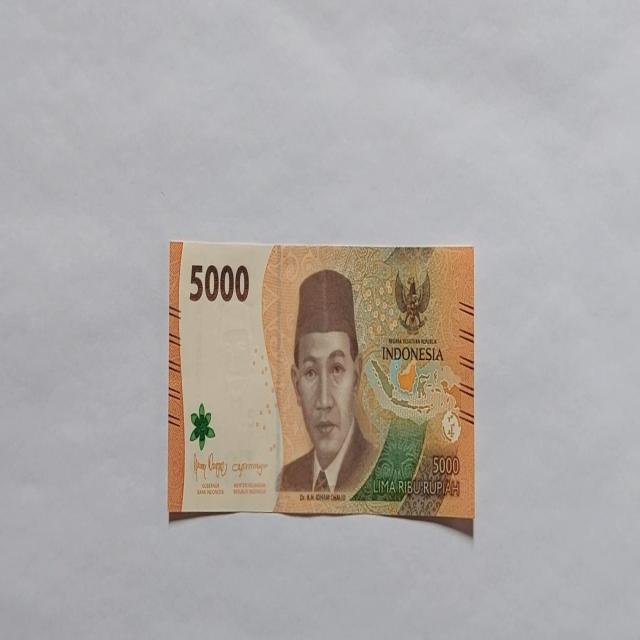lima ribu rupiah: (167, 239, 475, 532), (274, 268, 379, 500)
